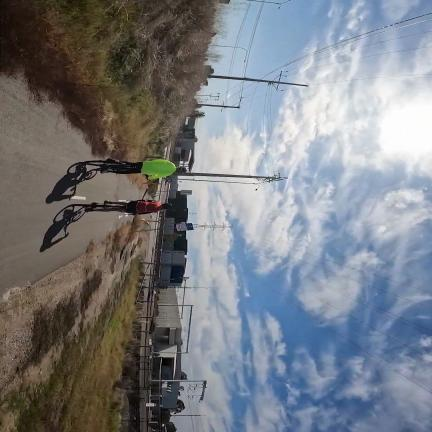Bike_Lane: (0, 76, 143, 297)
